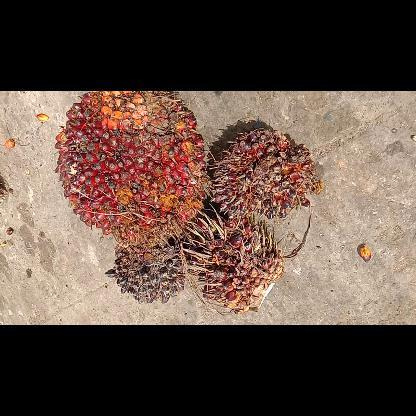TBS abnormal: (179, 214, 285, 314), (207, 127, 318, 220), (104, 233, 186, 306)
TBS masak: (52, 92, 210, 250)
